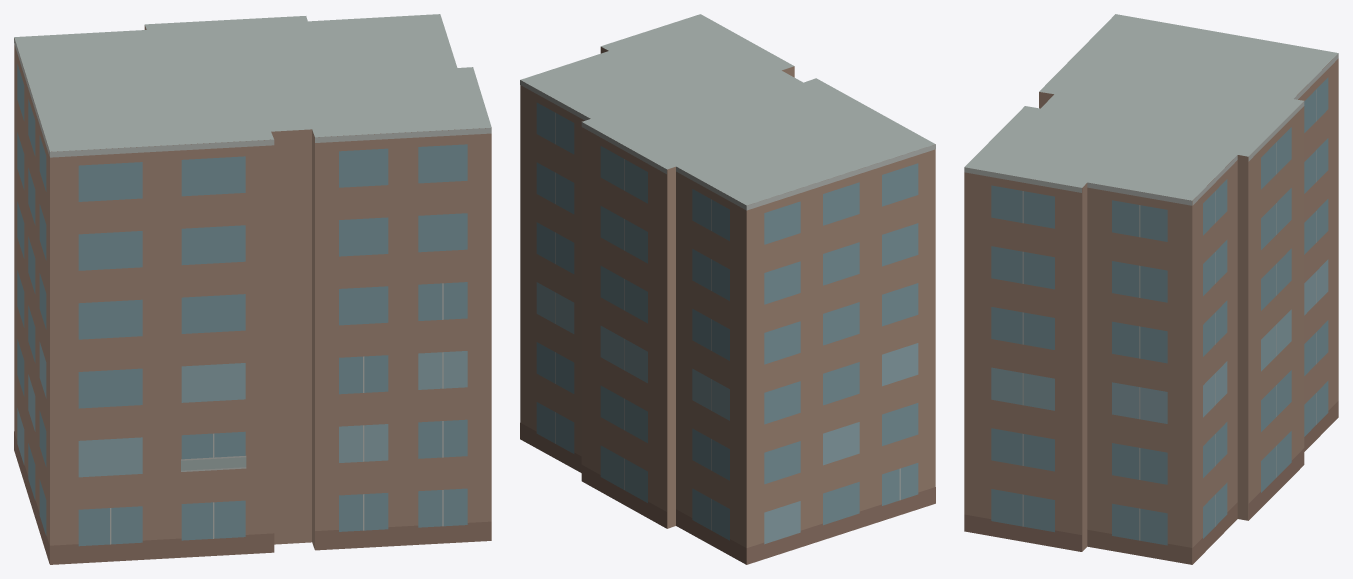
Rendered from survey-upis-32624048.glb.
The picture shows the model from 3 angles, left to right: view 1: azimuth 30°, elevation 25°; view 2: azimuth 150°, elevation 25°; view 3: azimuth 270°, elevation 25°; orthographic projection. The views are drawn at different scales.
Visible parts, largest first — view 1: survey-upis-32624048.tmp; view 2: survey-upis-32624048.tmp; view 3: survey-upis-32624048.tmp.
Boxes of the visible parts, x1,y1,x2,y2 form: survey-upis-32624048.tmp: (14, 14, 491, 564); survey-upis-32624048.tmp: (520, 14, 935, 564); survey-upis-32624048.tmp: (964, 14, 1338, 564).
Size of the model in its own units: 19.14 by 17.4 by 16.22.
